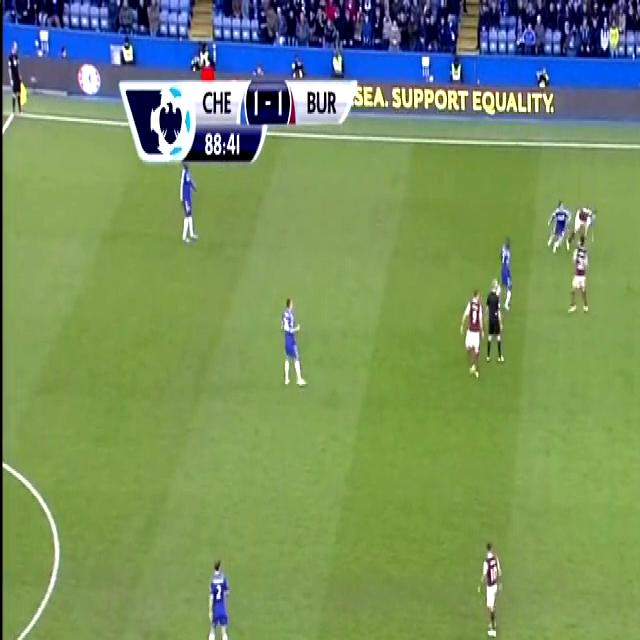referee: (481, 279, 504, 372), (4, 28, 27, 118)
soccer-player: (274, 282, 311, 394), (194, 542, 234, 640), (474, 531, 509, 640), (460, 280, 490, 385), (177, 153, 205, 249), (563, 240, 594, 324), (493, 230, 518, 317), (546, 192, 575, 260), (568, 196, 600, 250)
